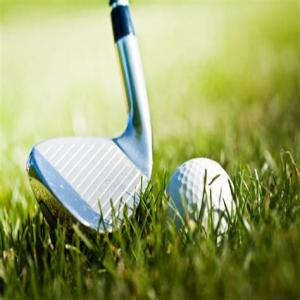Golf: (168, 156, 238, 230)
